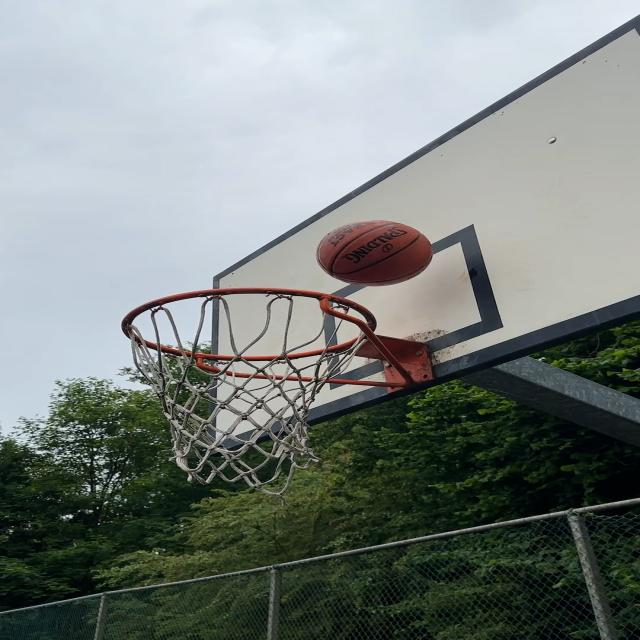Basketball: (317, 218, 432, 282)
